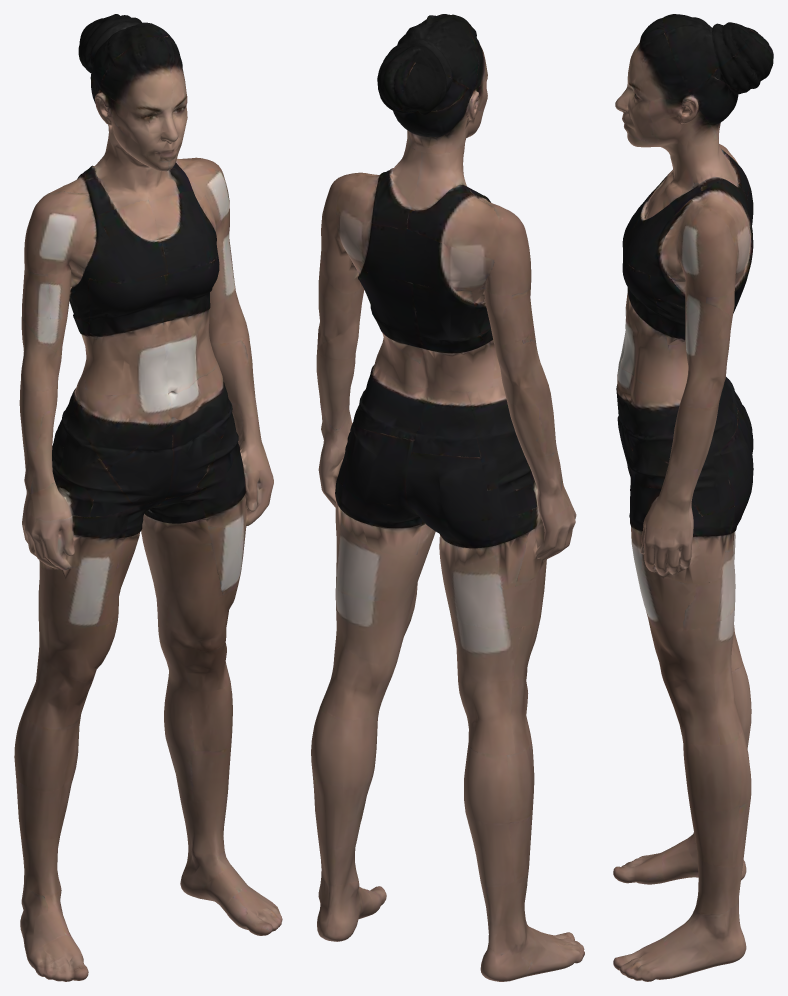
File: avatar-female.glb
3 views of the same model, side by side, from view 1: azimuth 30°, elevation 25°; view 2: azimuth 150°, elevation 25°; view 3: azimuth 270°, elevation 25° (orthographic). The views are drawn at different scales.
Parts seen in each view (by area): view 1: Mesh_0; view 2: Mesh_0; view 3: Mesh_0.
Boxes of the visible parts, x1,y1,x2,y2 form: Mesh_0: (14, 14, 282, 981); Mesh_0: (311, 14, 584, 981); Mesh_0: (613, 14, 773, 981).
Bounding box in the file's own units: 0.459 × 1.65 × 0.2644.
Materials: 1 (1 with a texture image).
